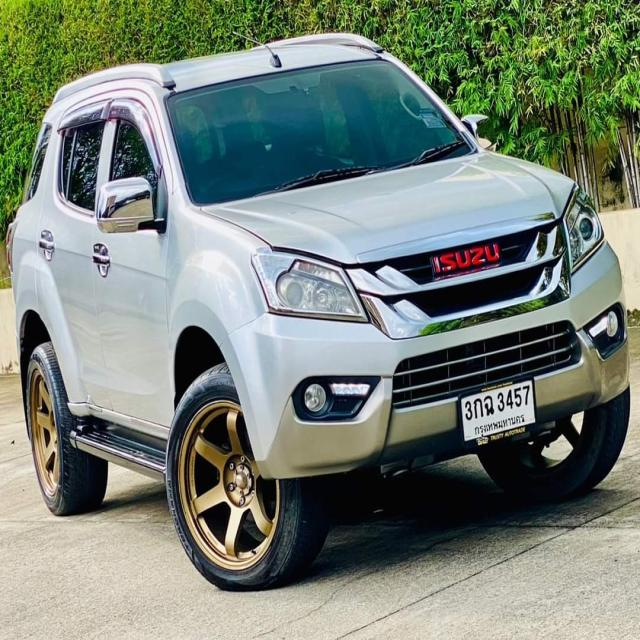license_plate: (455, 372, 541, 449)
